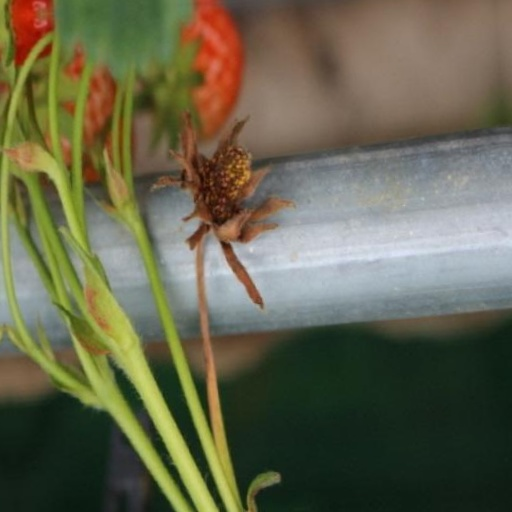Gray Mold: (212, 202, 360, 405)
